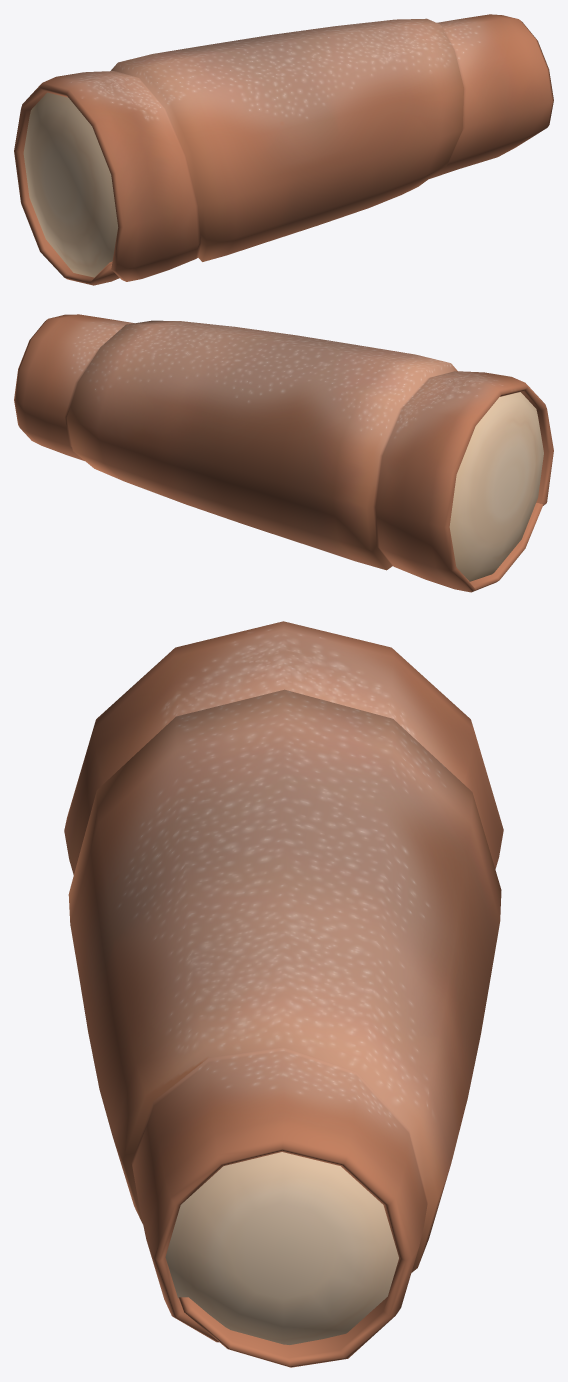
File: cream_horn.fbx
3 renders of one model, top to bottom at view 1: azimuth 30°, elevation 25°; view 2: azimuth 150°, elevation 25°; view 3: azimuth 270°, elevation 25°, orthographic. The views are drawn at different scales.
Parts seen in each view (by area): view 1: roll_&_crem; view 2: roll_&_crem; view 3: roll_&_crem.
Boxes of the visible parts, left/top/right/bottom form: roll_&_crem: left=14, top=14, right=553, bottom=285; roll_&_crem: left=14, top=314, right=553, bottom=592; roll_&_crem: left=64, top=621, right=503, bottom=1367.
Size of the model in its own units: 12.37 by 4.98 by 5.08.
